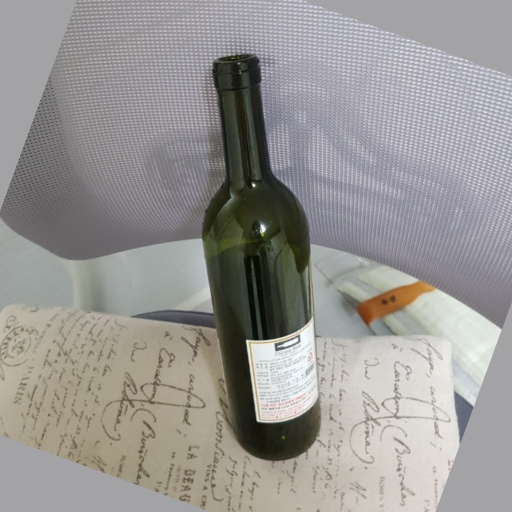Glass_2: (197, 51, 328, 464)
